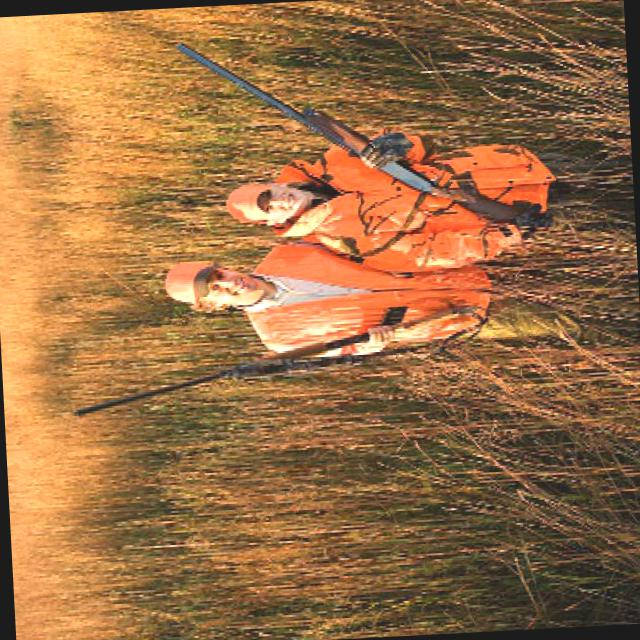long weapon: (172, 18, 554, 261), (65, 299, 491, 425)
